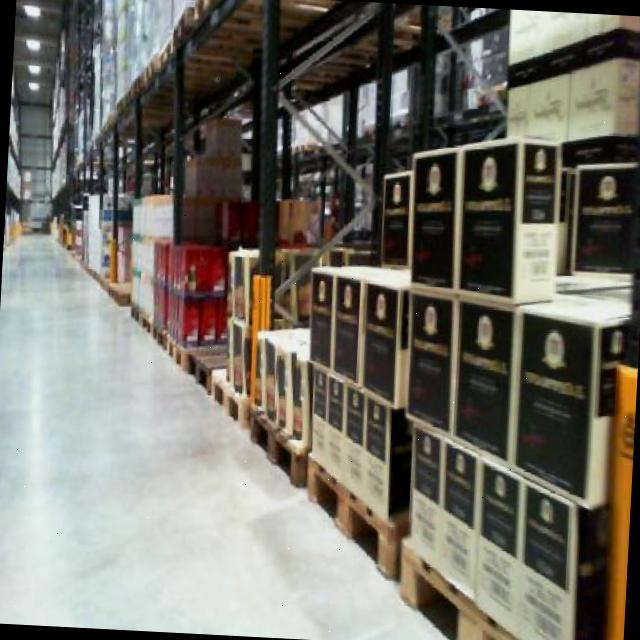pallet: (397, 527, 562, 640), (296, 440, 408, 584), (231, 389, 316, 499), (173, 337, 236, 399), (200, 367, 244, 432)
